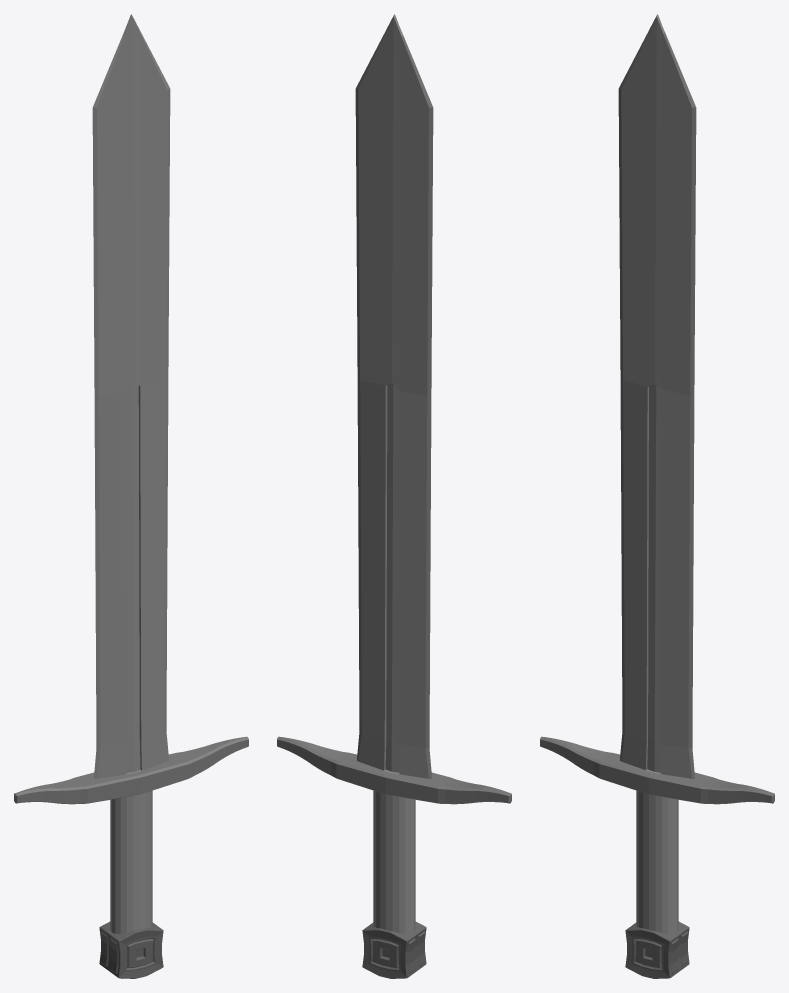
File: sword.obj
The picture shows the model from 3 angles, left to right: view 1: azimuth 30°, elevation 25°; view 2: azimuth 150°, elevation 25°; view 3: azimuth 330°, elevation 25°; orthographic projection.
Visible parts, largest first — view 1: Cube; view 2: Cube; view 3: Cube.
Boxes of the visible parts, box(x1,y1,x2,y2) form: Cube: box(14, 14, 248, 978); Cube: box(277, 14, 511, 978); Cube: box(540, 14, 774, 978).
Size of the model in its own units: 13.11 by 51.22 by 1.9.
Materials: 1 (1 with a texture image).
